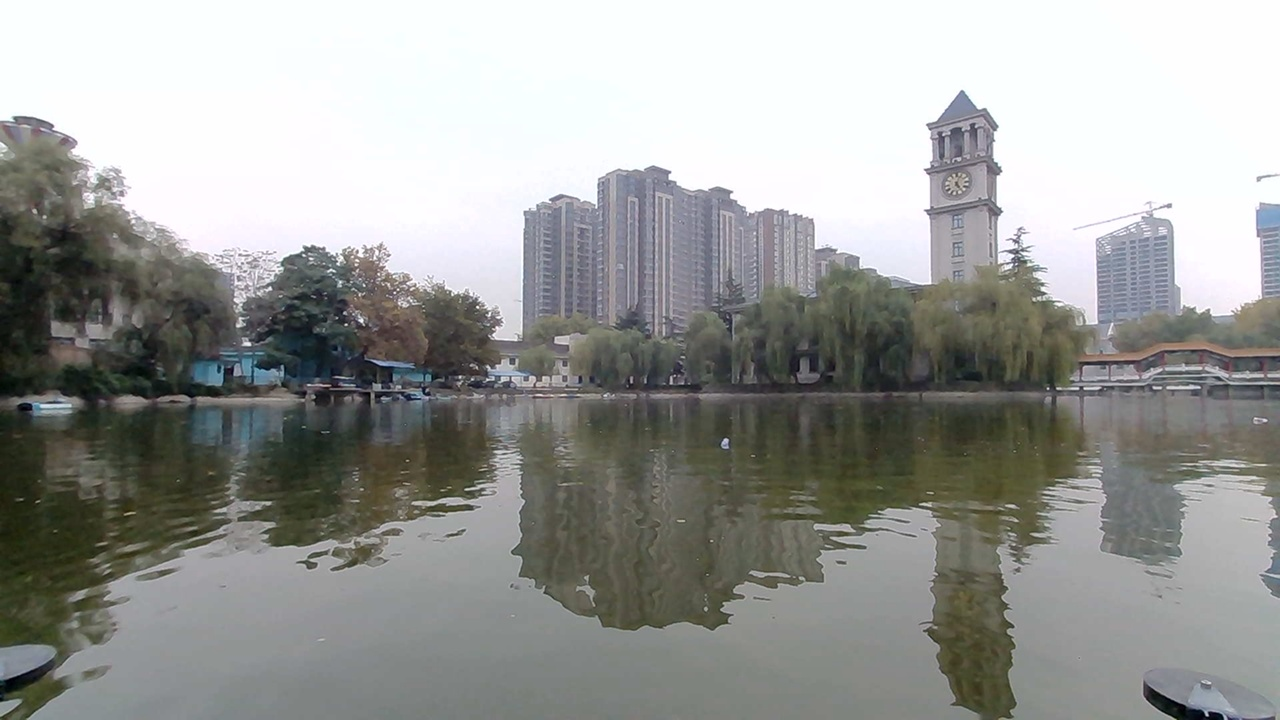bottle: (708, 422, 760, 454), (1235, 407, 1267, 426)
